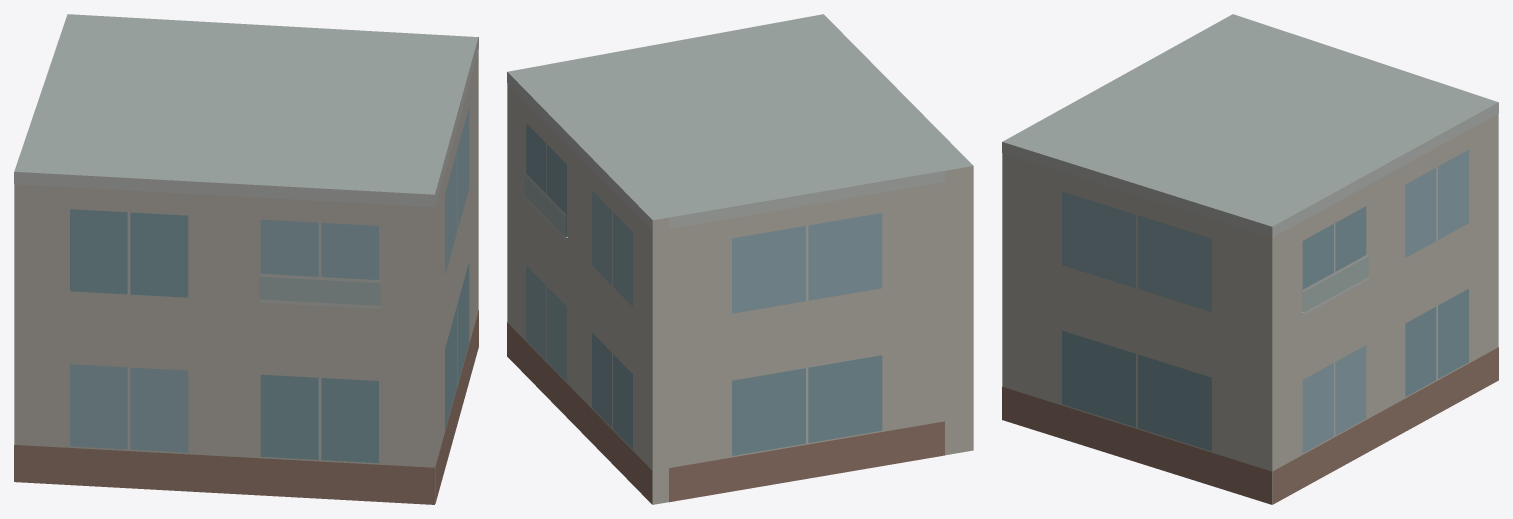
Rendered from survey-upis-32564182.glb.
3 renders of one model, left to right at view 1: azimuth 30°, elevation 25°; view 2: azimuth 150°, elevation 25°; view 3: azimuth 270°, elevation 25°, orthographic. The views are drawn at different scales.
Parts seen in each view (by area): view 1: survey-upis-32564182.tmp; view 2: survey-upis-32564182.tmp; view 3: survey-upis-32564182.tmp.
Boxes of the visible parts, left/top/right/bottom form: survey-upis-32564182.tmp: left=14, top=14, right=478, bottom=504; survey-upis-32564182.tmp: left=507, top=14, right=973, bottom=504; survey-upis-32564182.tmp: left=1002, top=14, right=1498, bottom=504.
Size of the model in its own units: 10.02 by 6.1 by 9.88.
